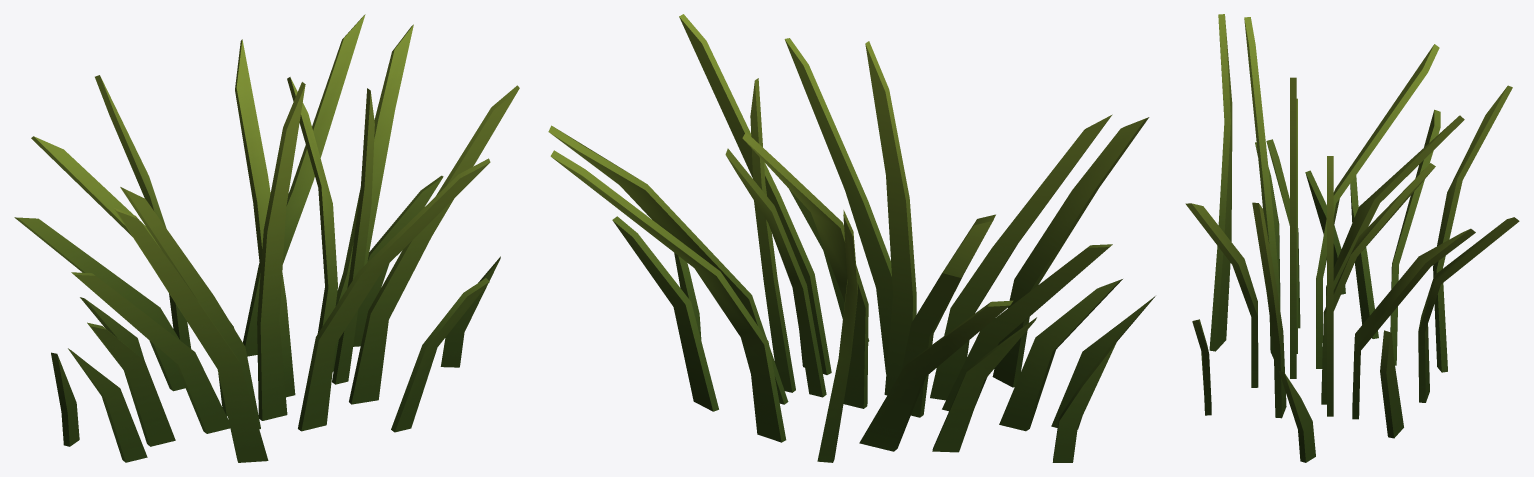
File: Grass_Large_Extruded.glb
3 views of the same model, side by side, from view 1: azimuth 30°, elevation 25°; view 2: azimuth 150°, elevation 25°; view 3: azimuth 270°, elevation 25° (orthographic). The views are drawn at different scales.
Visible parts, largest first — view 1: Grass_Large_Extruded; view 2: Grass_Large_Extruded; view 3: Grass_Large_Extruded.
Boxes of the visible parts, x1,y1,x2,y2 form: Grass_Large_Extruded: [14, 14, 519, 462]; Grass_Large_Extruded: [548, 14, 1155, 462]; Grass_Large_Extruded: [1185, 14, 1519, 462].
Size of the model in its own units: 0.7447 by 0.5089 by 0.4973.
Materials: 1 (1 with a texture image).
